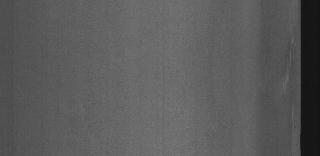silk spot: (273, 25, 297, 99)
